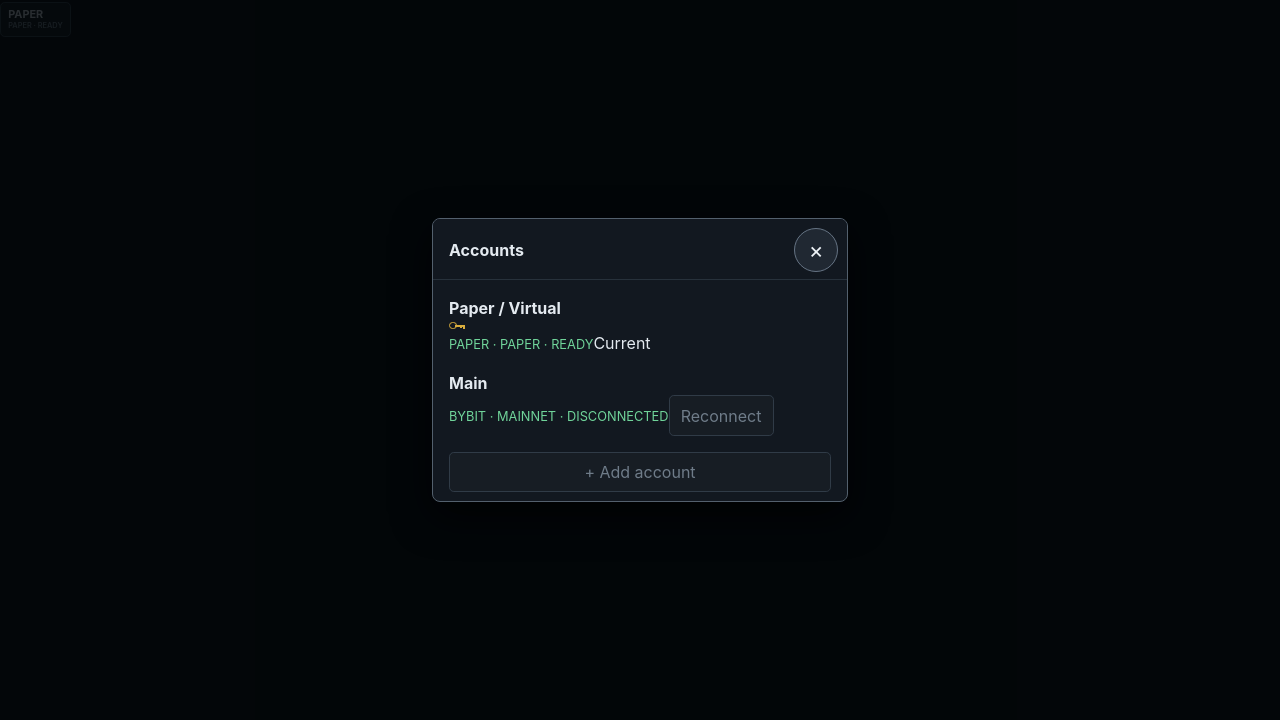
AccountMenu › keeps failed reconciliation visibly non-ready
Click the button "Reconnect" at x=721, y=416, box [668,396,774,436]
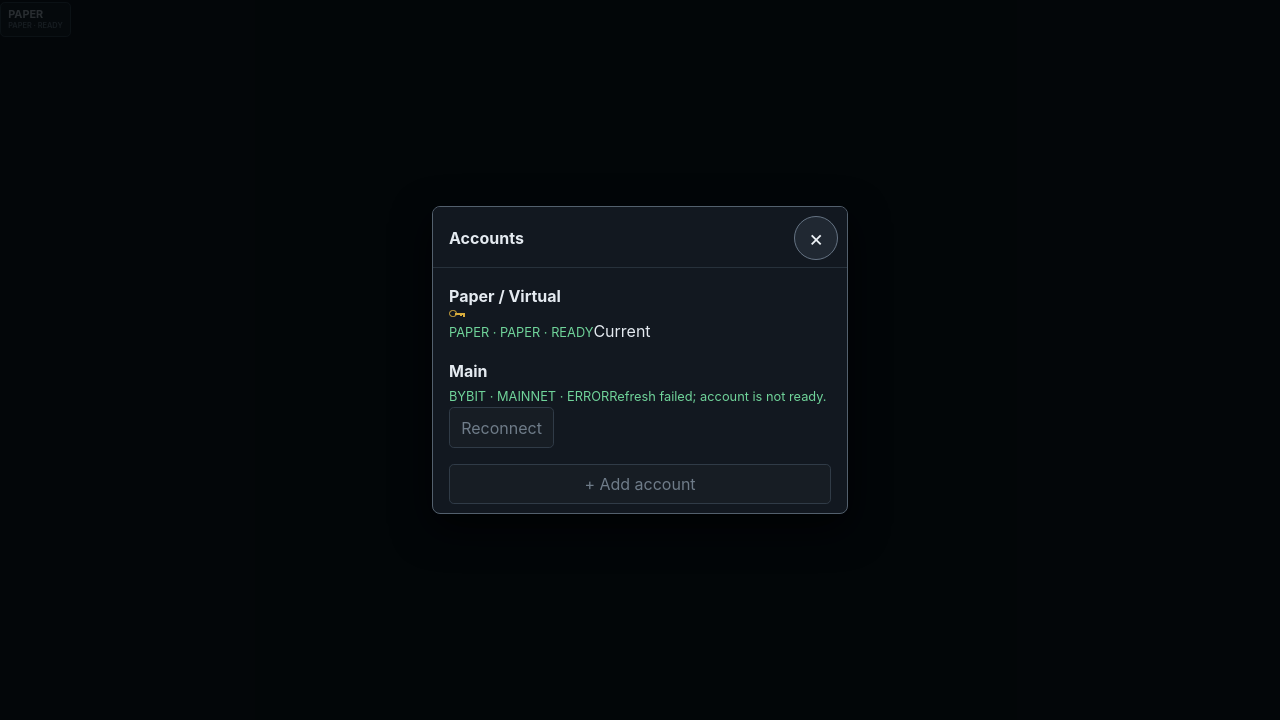
expect the message reads "Refresh failed; account is not ready.": met, box [609,390,827,404]
expect the text "BYBIT · MAINNET · ERROR" is shown: met, box [449,390,609,404]
